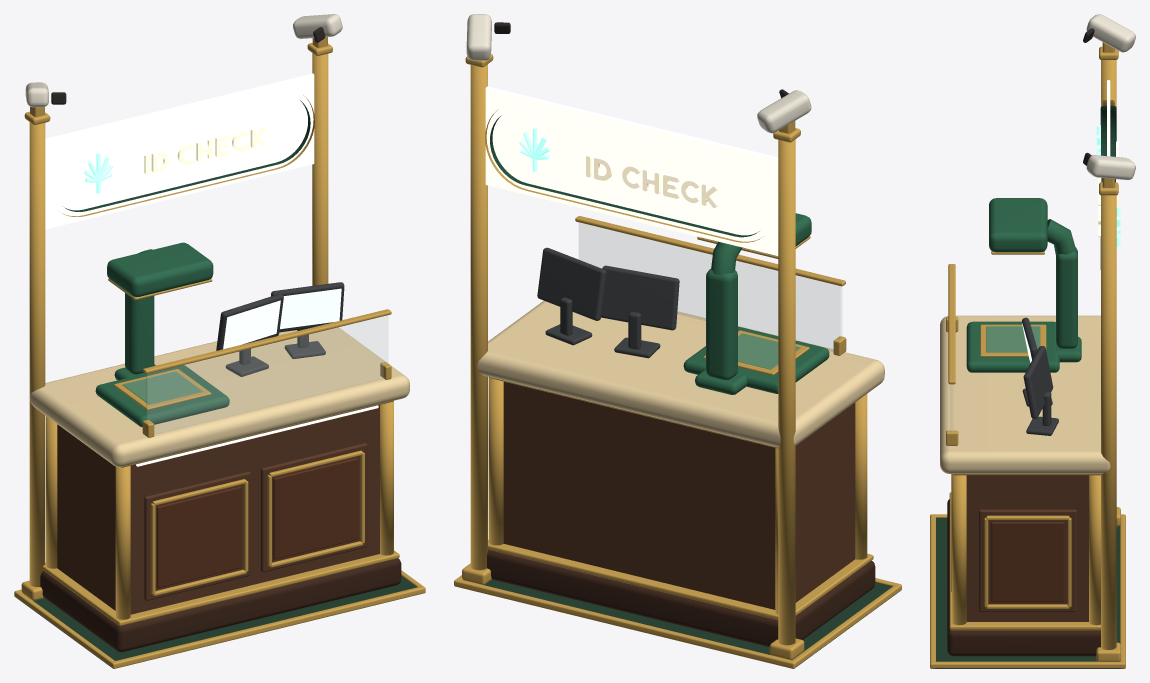
File: security_booth_tier4.glb
3 renders of one model, left to right at view 1: azimuth 30°, elevation 25°; view 2: azimuth 150°, elevation 25°; view 3: azimuth 270°, elevation 25°, orthographic. The views are drawn at different scales.
Parts seen in each view (by area): view 1: Body, Top, SignGlow, GuardGlass, Plinth, RearPost-1, Front0Inset, Front1Inset, LampHead, RearPost1, PlinthBrass, Mat (+21 smaller); view 2: Body, SignGlow, Top, GuardGlass, Plinth, RearPost-1, RearPost1, PlinthBrass, MonitorL, Mat, MonitorR, ArmCol (+15 smaller); view 3: Top, Body, RearPost1, EndInset, Plinth, Mat, End, LampHead, ScanPad, Column1-1, ArmCol, Column11 (+20 smaller).
Boxes of the visible parts, x1,y1,x2,y2 form: Body: (57, 405, 379, 614); Top: (30, 327, 409, 467); SignGlow: (45, 73, 314, 229); GuardGlass: (146, 315, 388, 433); Plinth: (40, 558, 401, 652); RearPost-1: (29, 122, 45, 586); Front0Inset: (157, 486, 241, 587); Front1Inset: (273, 458, 357, 559); LampHead: (107, 242, 213, 297); RearPost1: (312, 53, 328, 285); PlinthBrass: (42, 550, 399, 625); Mat: (16, 576, 416, 668); Body: (503, 381, 855, 609); SignGlow: (485, 86, 778, 255); Top: (477, 301, 884, 447); GuardGlass: (579, 223, 842, 351); Plinth: (487, 549, 875, 646); RearPost-1: (778, 139, 795, 645); RearPost1: (470, 64, 487, 570); PlinthBrass: (487, 540, 873, 620); MonitorL: (601, 265, 679, 330); Mat: (484, 579, 899, 666); MonitorR: (537, 247, 606, 320); ArmCol: (706, 269, 737, 379); Top: (940, 315, 1110, 473); Body: (966, 475, 1088, 621); RearPost1: (1101, 195, 1116, 649); EndInset: (991, 522, 1064, 602); Plinth: (947, 499, 1100, 656); Mat: (934, 517, 1121, 668); End: (979, 509, 1076, 612); LampHead: (989, 198, 1047, 252); ScanPad: (966, 321, 1059, 372); Column1-1: (952, 474, 966, 625); ArmCol: (1056, 247, 1077, 348); Column11: (1089, 475, 1100, 625).
Size of the model in its own units: 1.46 by 2.29 by 0.841.
